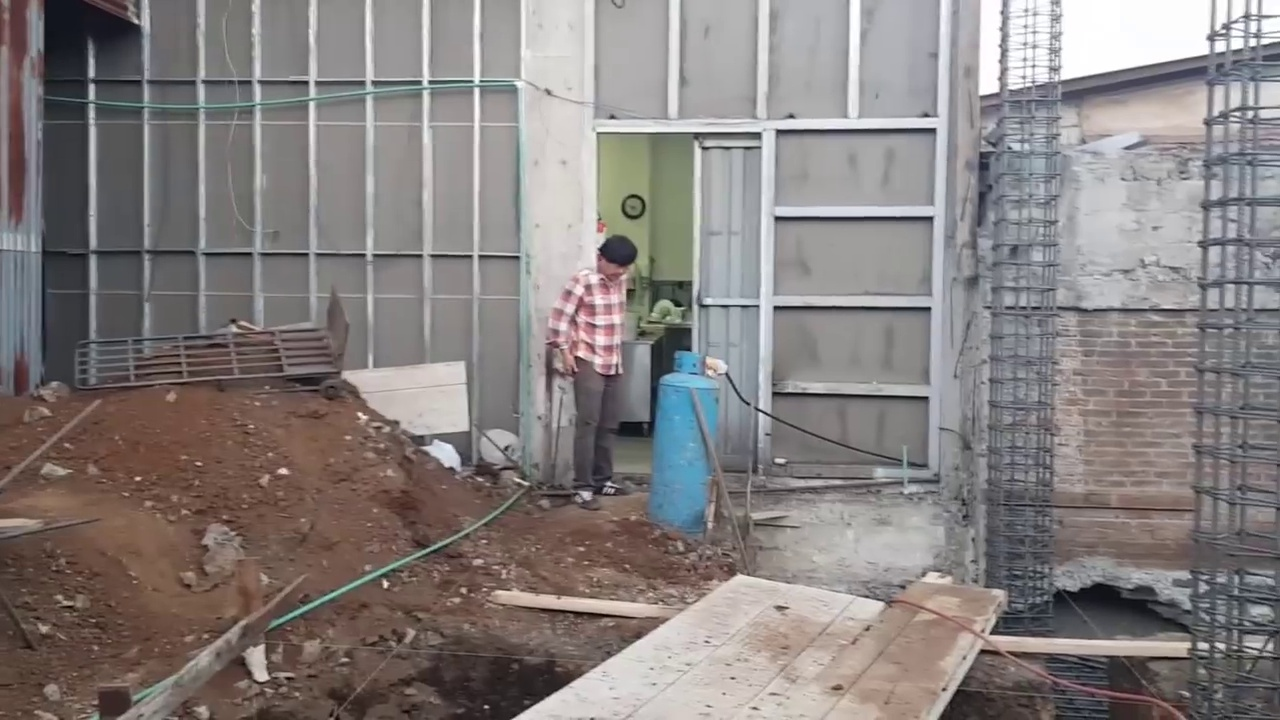helmet-off: (600, 231, 636, 283)
person: (547, 228, 649, 505)
